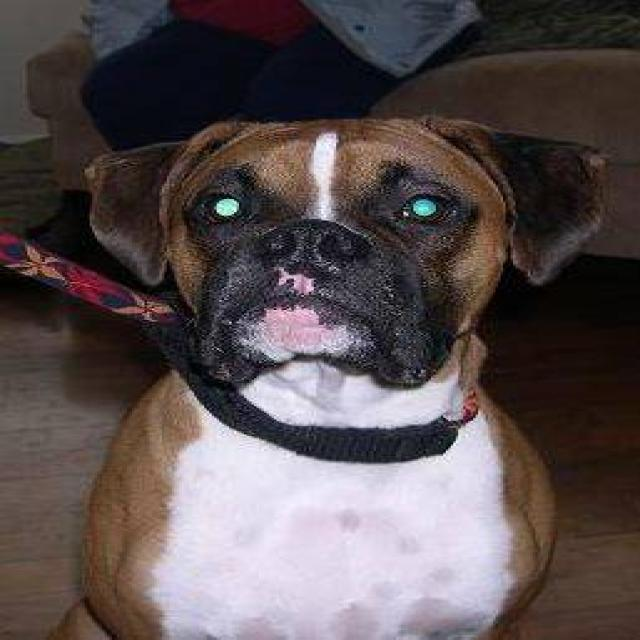dog: (42, 113, 610, 638)
